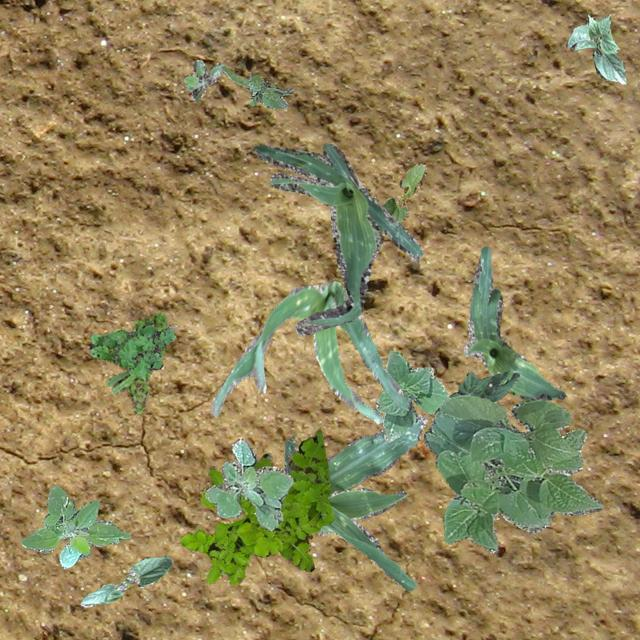crop: (246, 143, 422, 334), (423, 394, 602, 552), (210, 280, 408, 422), (283, 413, 427, 590), (462, 246, 564, 400), (20, 484, 130, 568), (376, 349, 448, 442), (80, 556, 172, 606), (564, 12, 626, 82), (382, 162, 426, 222), (448, 369, 518, 402)
weed: (180, 428, 332, 584), (204, 438, 292, 530), (104, 312, 166, 412), (88, 322, 174, 376), (220, 64, 292, 108), (182, 59, 222, 102)
